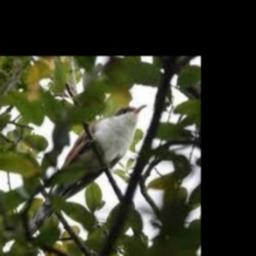Cuckoo: (26, 104, 146, 234)
